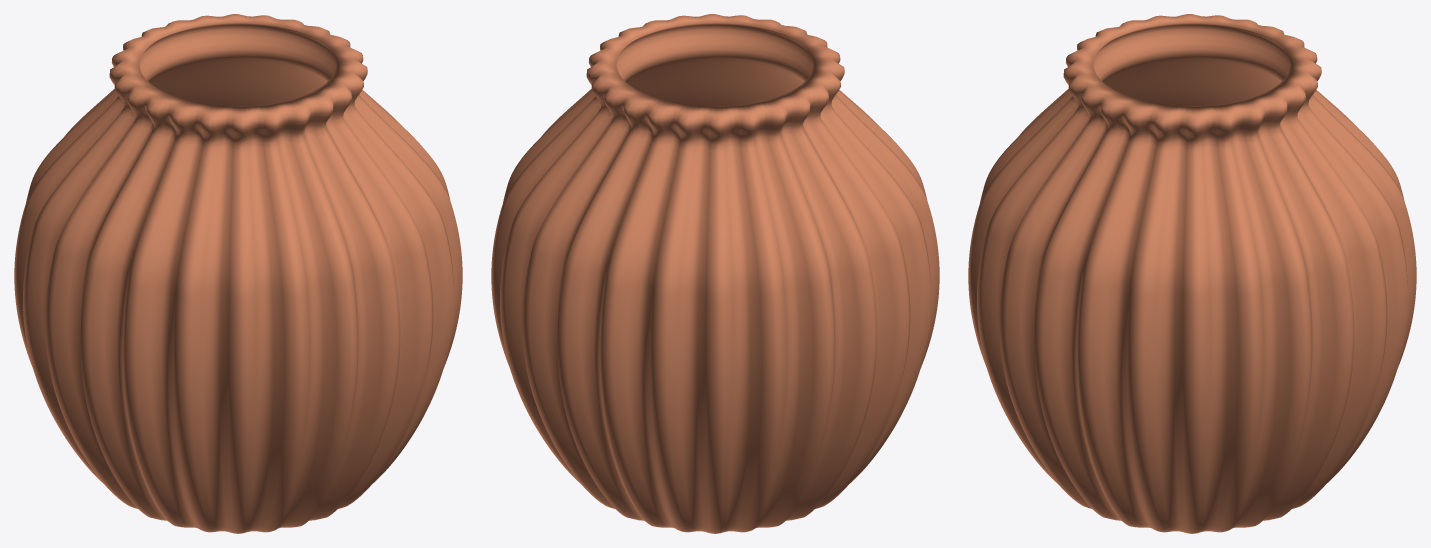
File: ab3d-ribbed-vase.glb
3 views of the same model, side by side, from view 1: azimuth 30°, elevation 25°; view 2: azimuth 150°, elevation 25°; view 3: azimuth 270°, elevation 25° (orthographic).
Visible parts, largest first — view 1: AB3D Ribbed Japandi Vase; view 2: AB3D Ribbed Japandi Vase; view 3: AB3D Ribbed Japandi Vase.
Boxes of the visible parts, box(x1,y1,x2,y2) form: AB3D Ribbed Japandi Vase: box(14, 14, 462, 533); AB3D Ribbed Japandi Vase: box(491, 14, 939, 533); AB3D Ribbed Japandi Vase: box(968, 14, 1416, 533).
Bounding box in the file's own units: 2.71 × 2.8 × 2.71.
